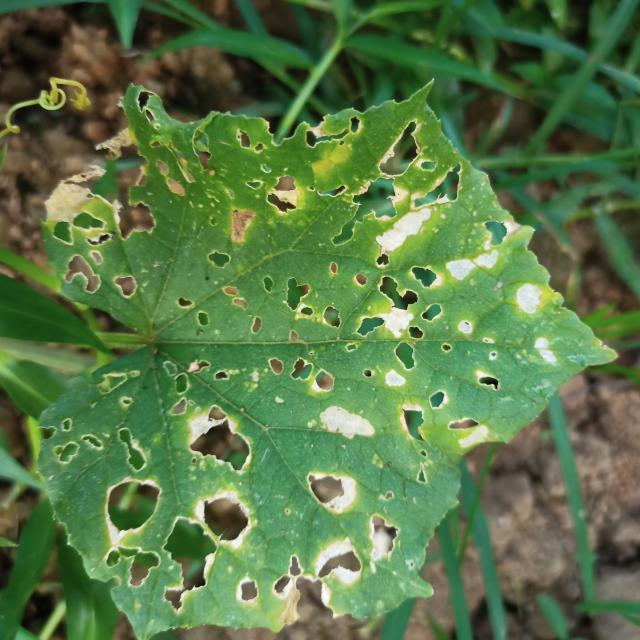disease_cucumber: (42, 119, 539, 632)
